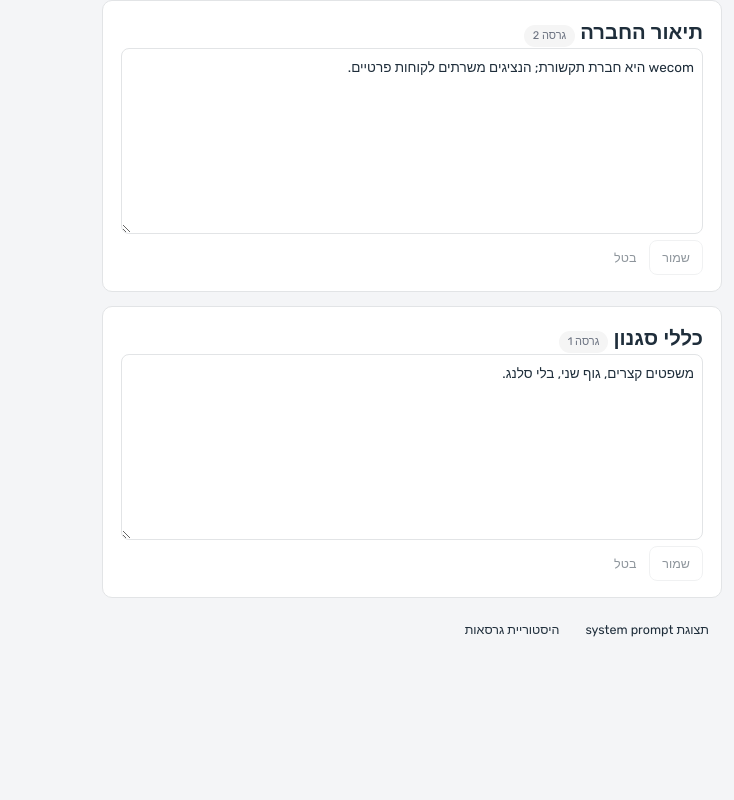
Scenario: PromptsTab › saves the brief and shows the version the server bumped it to
Expected: the text "גרסה 2" is shown, [524,25,575,47]
Replace the text in the text box named "תיאור החברה" with "תיאור חדש" at coordinates (412, 141), box [121,48,703,234]
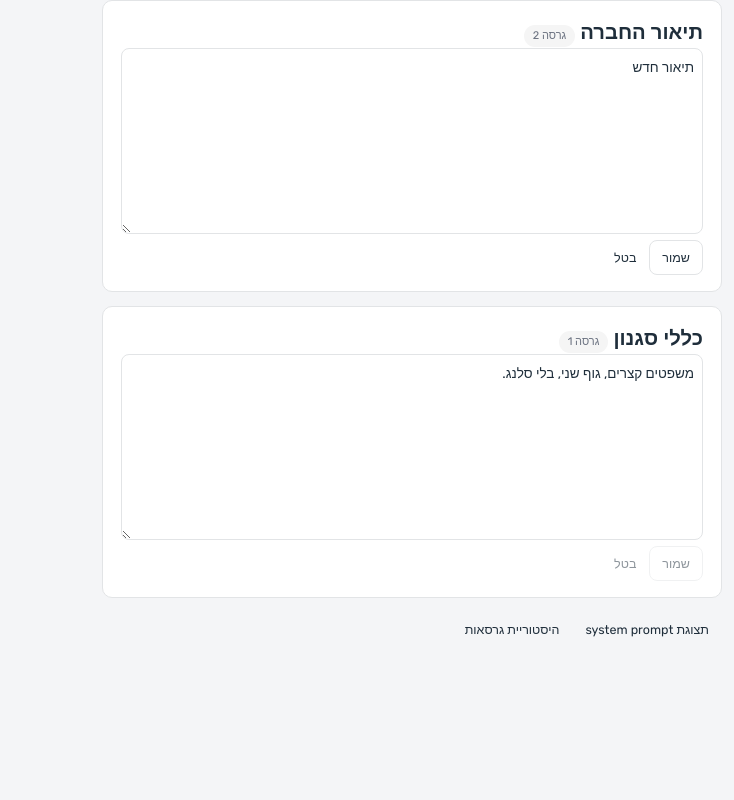
Click the button "שמור" below "תיאור החברה".
click(676, 257)  # box [649,240,703,275]
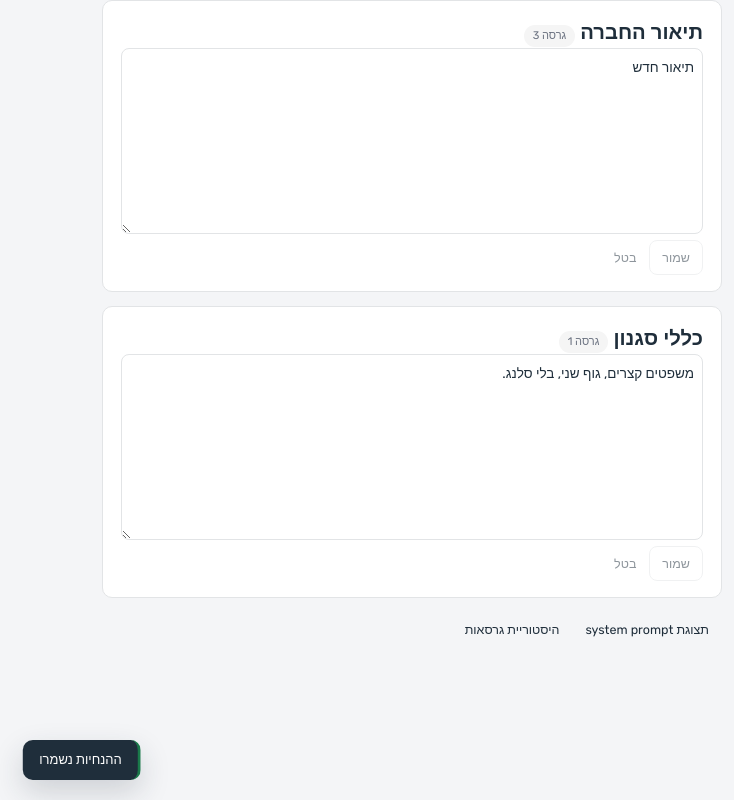
Expected: the text "גרסה 3" is shown, [524,25,575,47]
